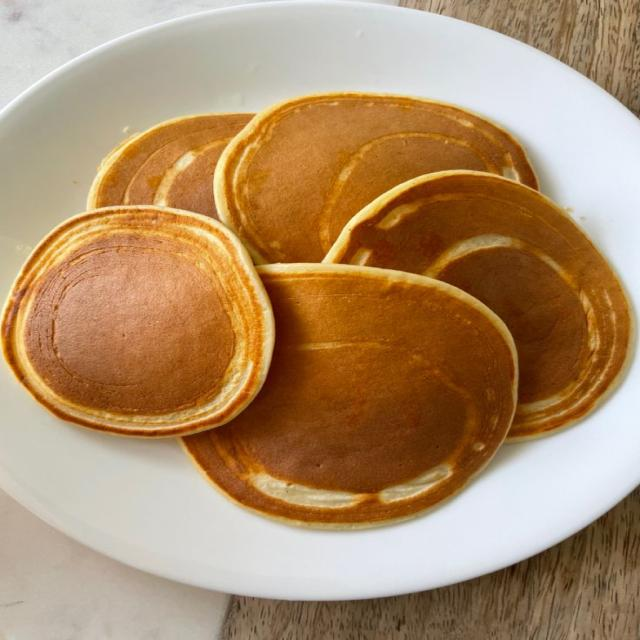pancake: (184, 264, 517, 528), (326, 172, 630, 439), (2, 207, 273, 436), (214, 93, 537, 262), (87, 114, 252, 217)
